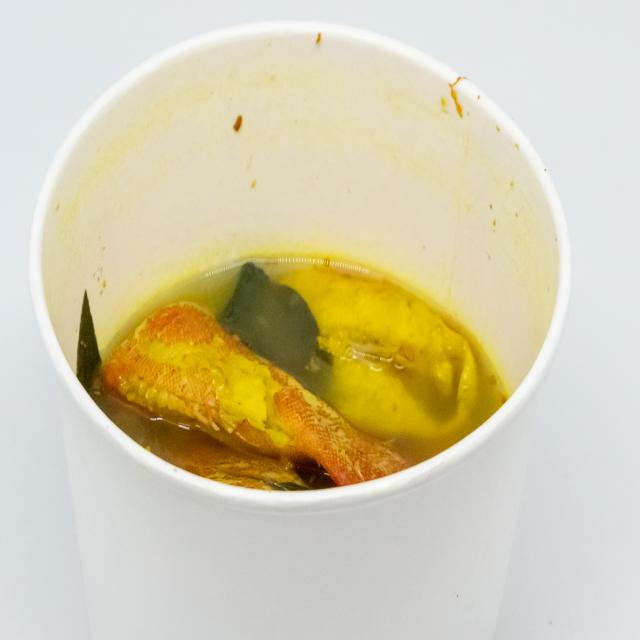Gulai-Ikan-Mas: (84, 202, 508, 487)
